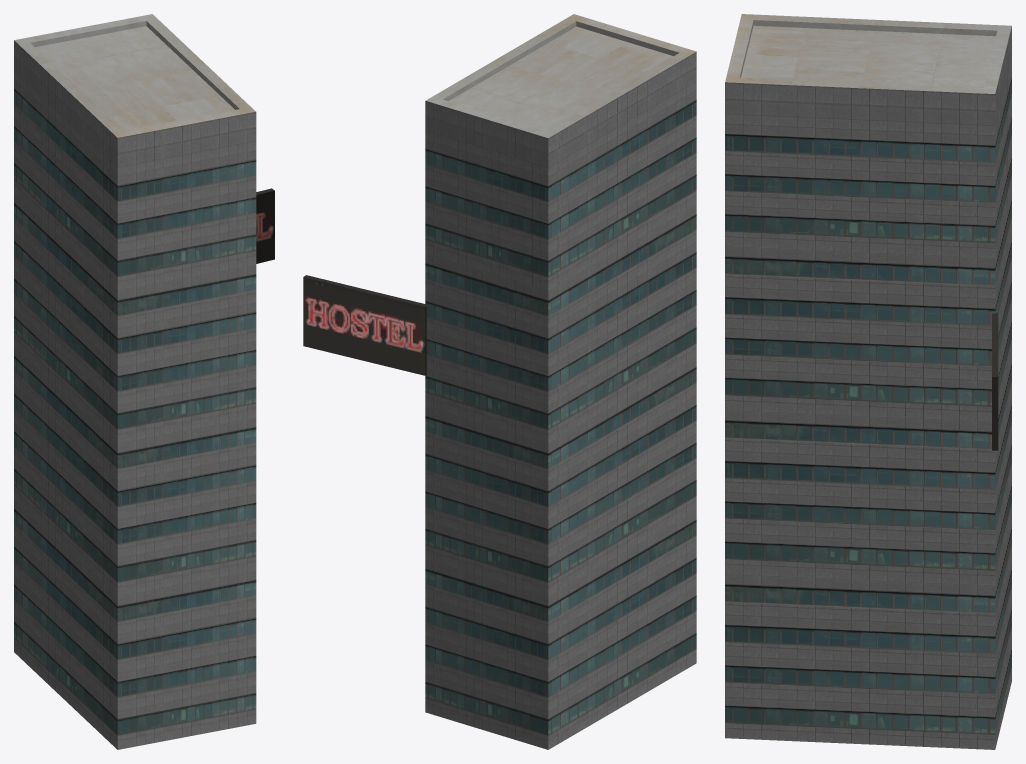
The model's file is Hostel.fbx.
The picture shows the model from 3 angles, left to right: view 1: azimuth 30°, elevation 25°; view 2: azimuth 150°, elevation 25°; view 3: azimuth 270°, elevation 25°; orthographic projection. The views are drawn at different scales.
Visible parts, largest first — view 1: Hostel; view 2: Hostel; view 3: Hostel.
Boxes of the visible parts, x1=… form: Hostel: x1=14, y1=14, x2=274, y2=749; Hostel: x1=303, y1=14, x2=696, y2=749; Hostel: x1=725, y1=14, x2=1011, y2=749.
Size of the model in its own units: 14.97 by 31.95 by 12.66.
